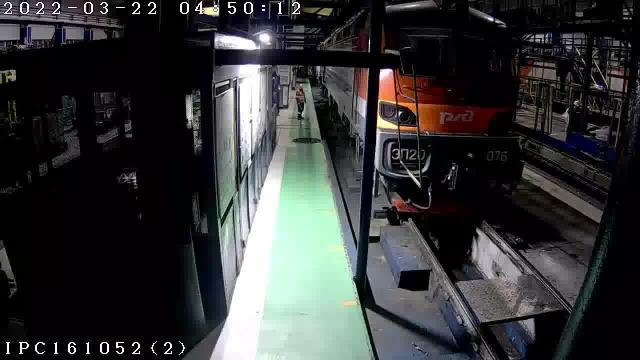person: (296, 85, 305, 117)
train: (375, 1, 523, 215)
